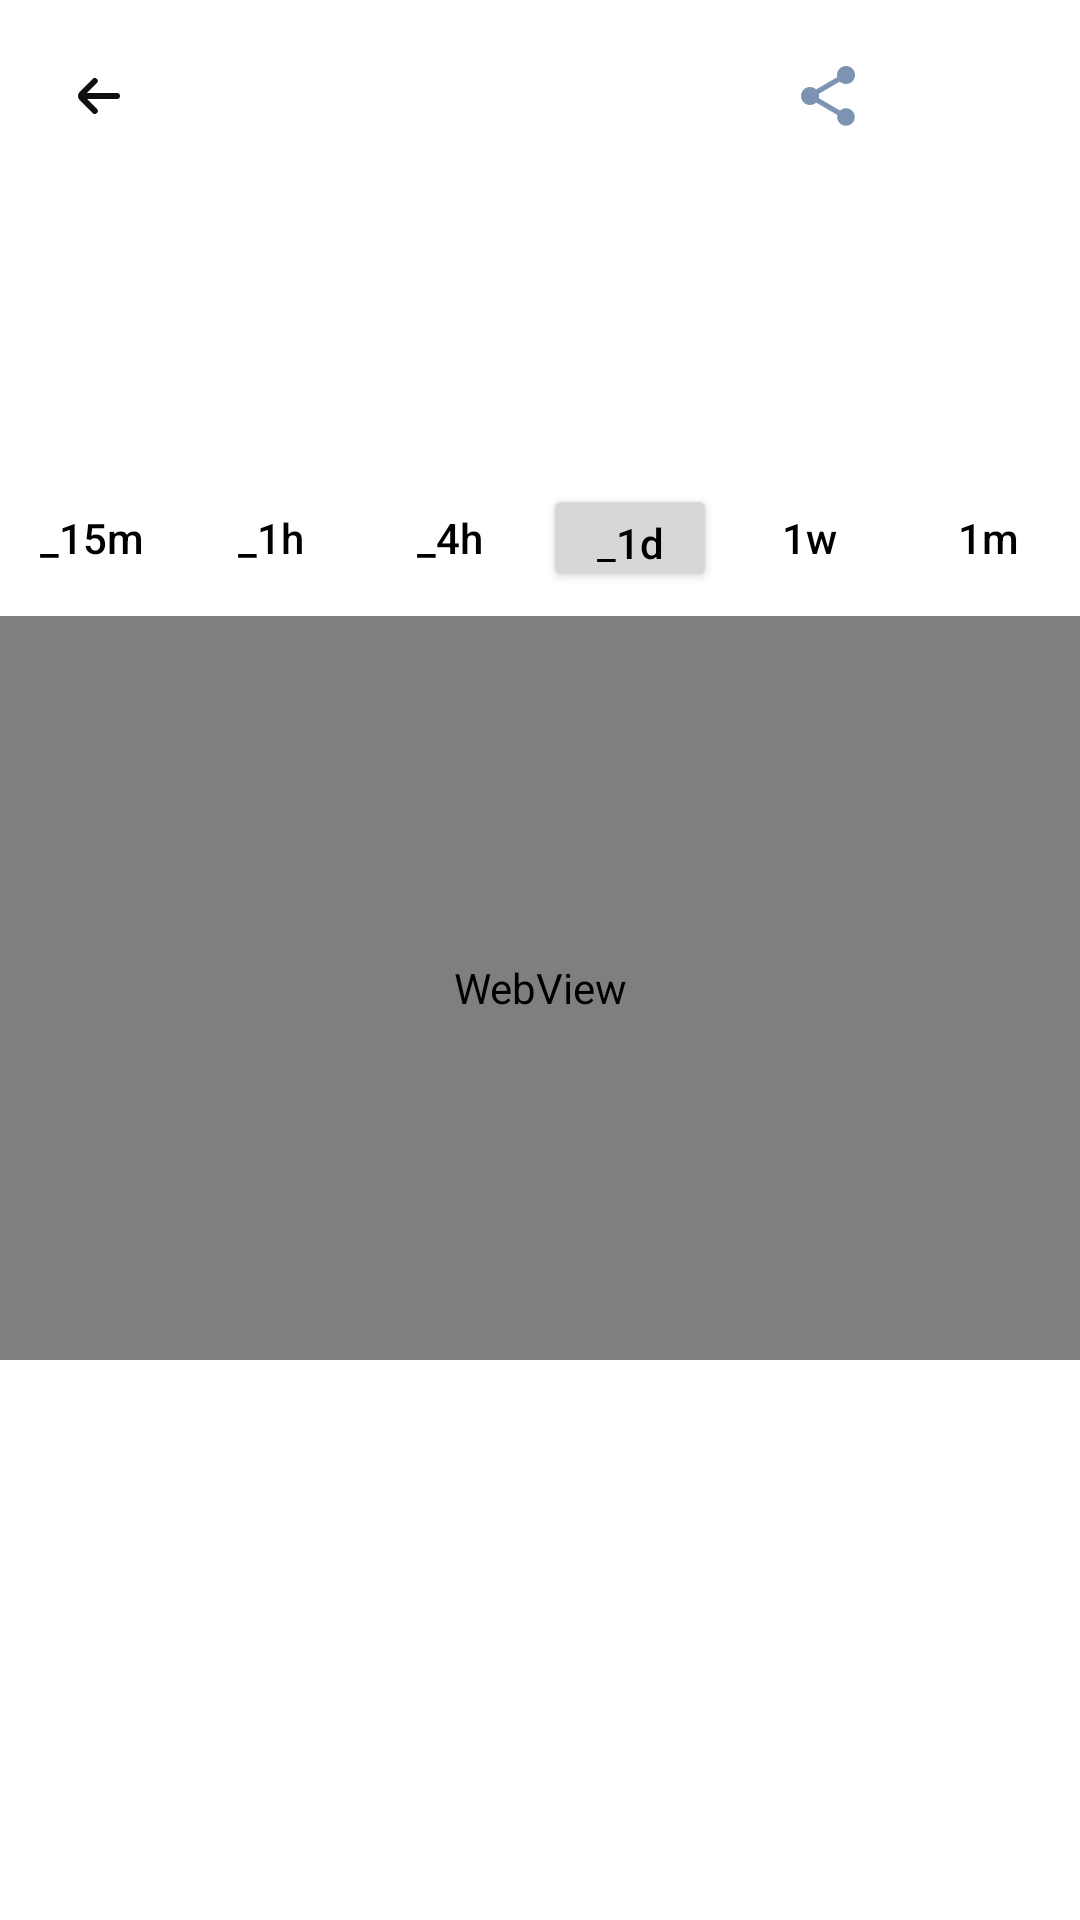

Named icons in this screenshot (1080*1920) and their bounding boxes, (x1, y1, x2, y2):
back stack: (78, 77, 120, 114)
share: (801, 66, 855, 126)
